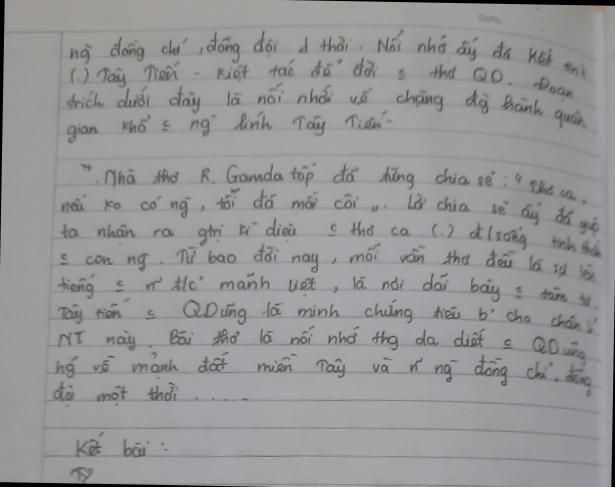text: (66, 18, 591, 80), (59, 183, 602, 238), (54, 344, 594, 399), (63, 76, 588, 132), (55, 319, 589, 370), (57, 212, 605, 261), (77, 155, 590, 207), (56, 235, 599, 284), (68, 52, 577, 102), (53, 265, 593, 312), (55, 292, 600, 336), (63, 101, 395, 151), (50, 378, 251, 414), (73, 429, 153, 462), (67, 464, 96, 483), (477, 12, 502, 25)
